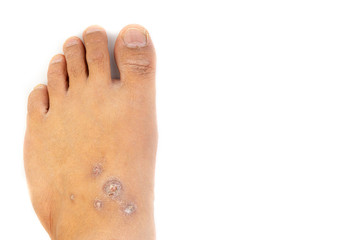Eczema: (52, 143, 148, 231)
